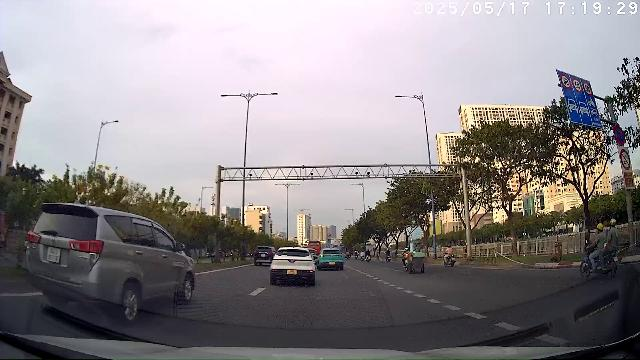127-toc-do-toi-da-50: (583, 81, 592, 95)
127-toc-do-toi-da-60: (560, 73, 571, 88), (572, 77, 582, 92)
130-cam-dung-va-do-xe: (614, 124, 625, 145)
